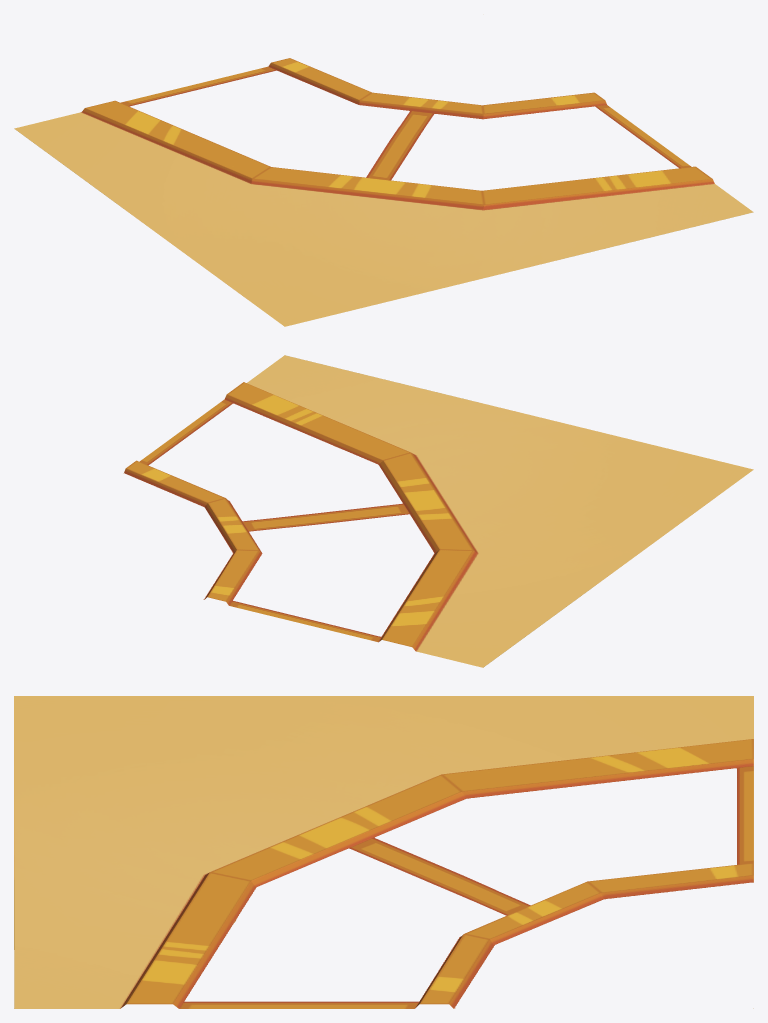
File: desertWindowTile_MESH.fbx
3 renders of one model, top to bottom at view 1: azimuth 30°, elevation 25°; view 2: azimuth 150°, elevation 25°; view 3: azimuth 270°, elevation 25°, orthographic. The views are drawn at different scales.
Parts seen in each view (by area): view 1: desertWindowTile; view 2: desertWindowTile; view 3: desertWindowTile.
Part boxes in pixels (x1,y1,x2,y2): desertWindowTile: [14, 58, 753, 326]; desertWindowTile: [123, 355, 753, 667]; desertWindowTile: [14, 696, 753, 1008].
Bounding box in the file's own units: 1 × 0.00669 × 1.
